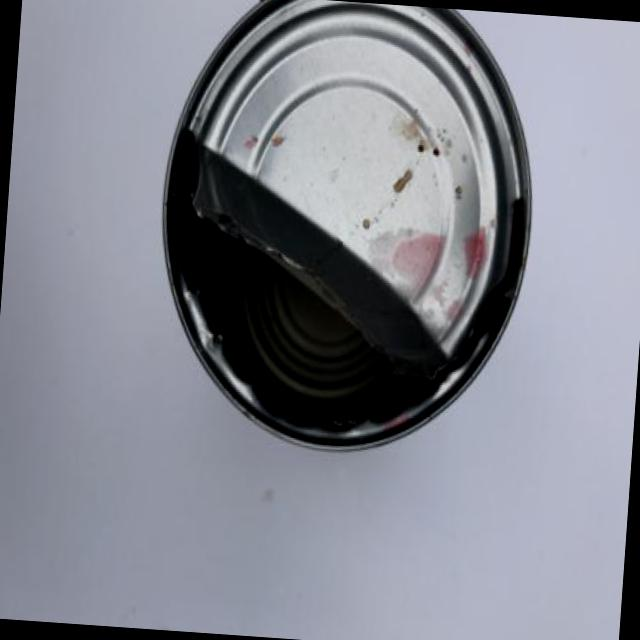nhom: (160, 0, 535, 453)
